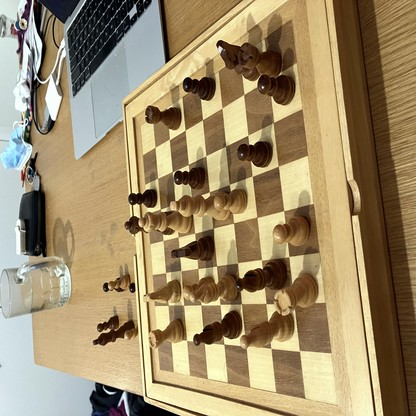bishop_black: (194, 310, 243, 347), (236, 261, 287, 293)
bishop_white: (240, 310, 294, 347), (191, 275, 238, 305)
king_white: (171, 194, 230, 219), (93, 320, 135, 344)
knight_black: (216, 40, 259, 82), (172, 236, 214, 260)
knight_white: (142, 279, 181, 304)
pawn_black: (257, 74, 295, 104), (238, 143, 273, 167), (183, 78, 216, 100), (173, 166, 205, 187), (128, 188, 157, 206), (97, 316, 119, 332)
pawn_white: (273, 218, 310, 245), (214, 189, 248, 214), (107, 274, 130, 291)
queen_white: (138, 211, 194, 233)
rock_black: (238, 43, 282, 77), (145, 106, 181, 130)
rock_white: (273, 274, 318, 316), (148, 319, 183, 347)
